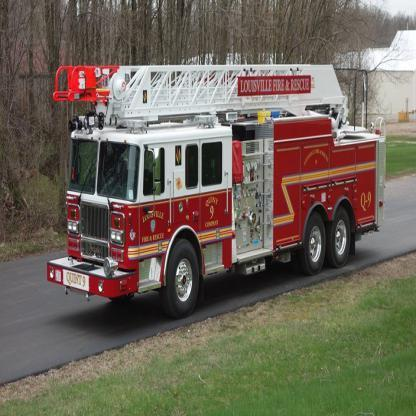fire-truck: (11, 11, 386, 341)
